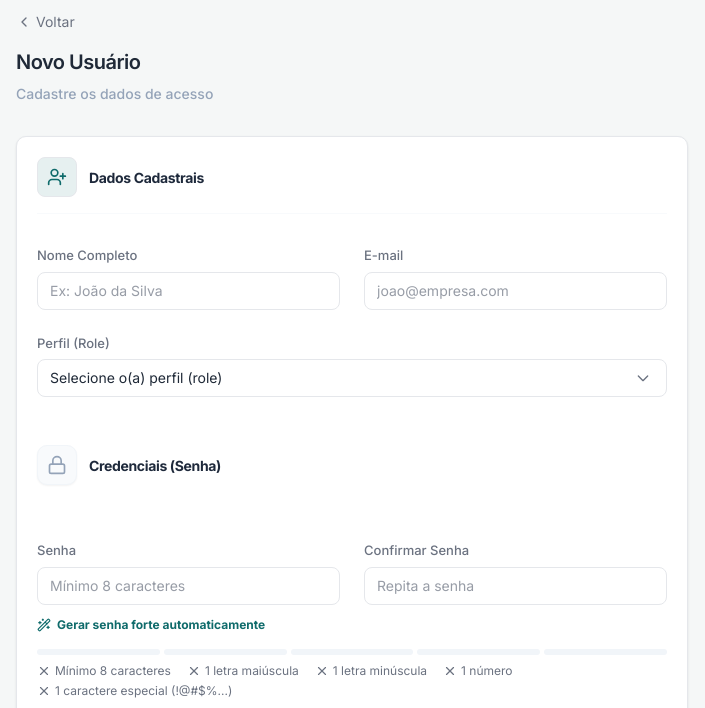
Test: <UserCreate> › botão de gerar senha preenche os dois campos com uma senha forte igual
This screenshot has width=705, height=708.
Click the button "Gerar senha forte automaticamente": {"x": 151, "y": 624} top-left (37, 616), bottom-right (265, 632)
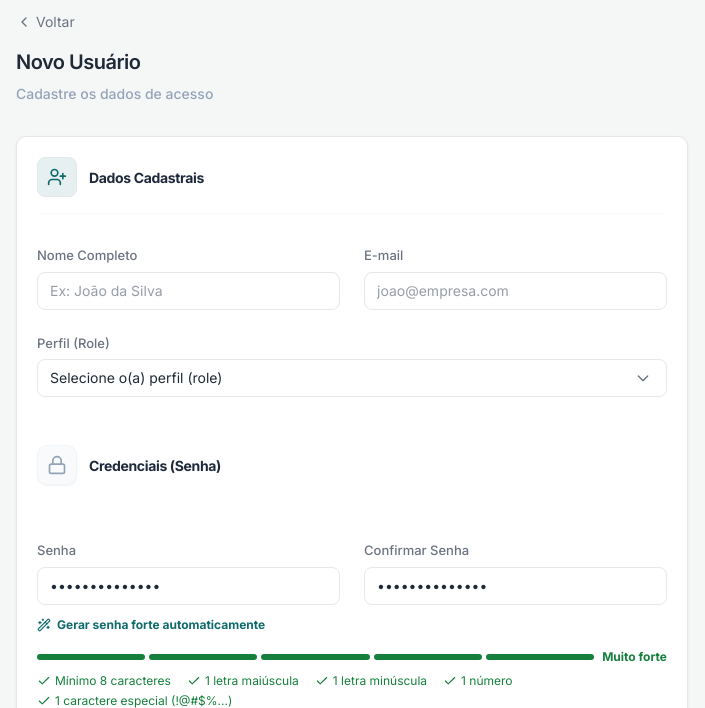
expect the 1st password field with placeholder "Mínimo 8 caracteres" is not empty: met, box top-left (37, 566), bottom-right (340, 604)
expect the text "Muito forte" is shown: met, box top-left (602, 648), bottom-right (667, 664)
